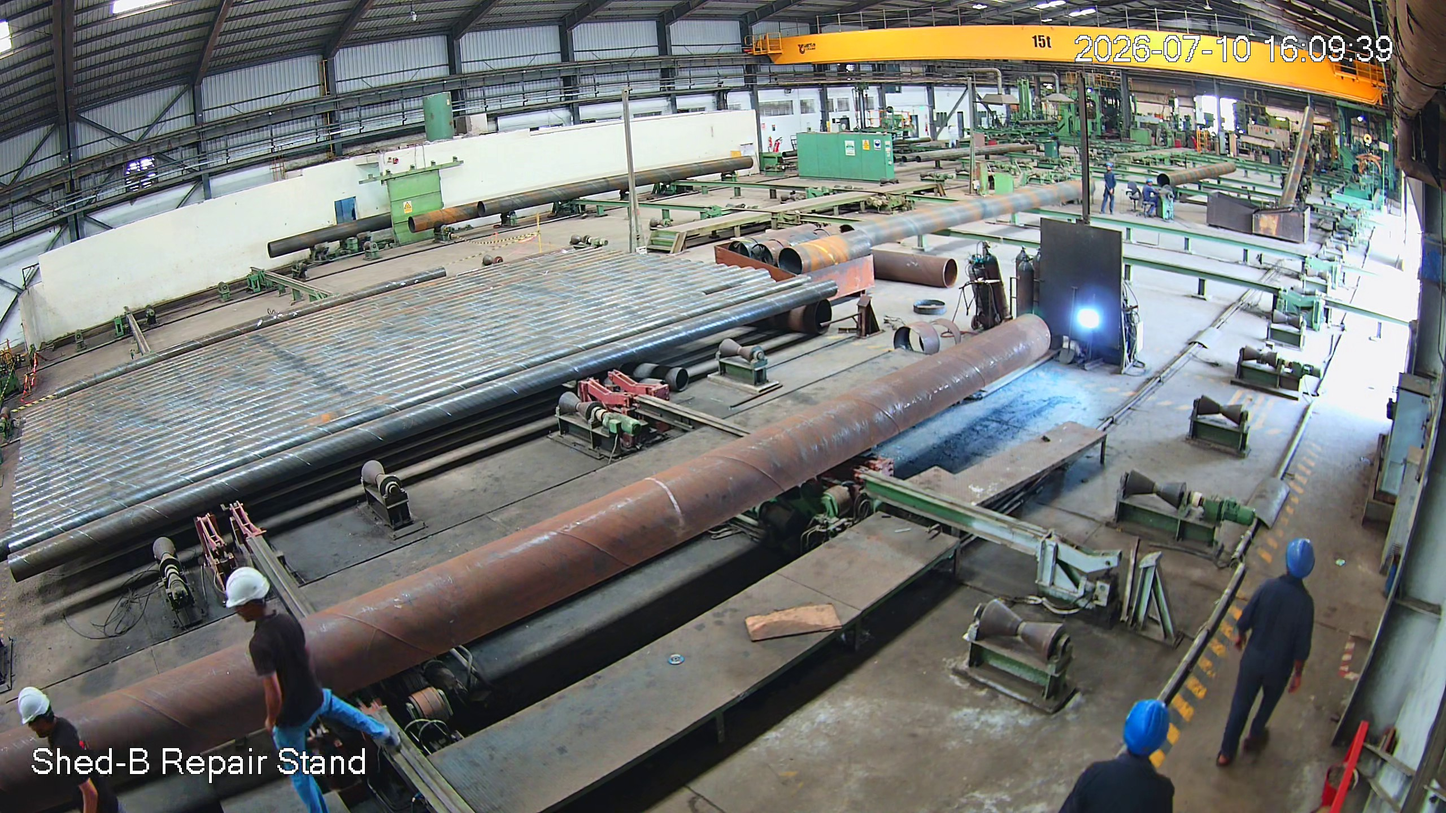Helmet: (1122, 689, 1197, 778), (219, 566, 296, 643), (10, 676, 69, 742), (1275, 528, 1325, 605)
Person: (226, 568, 369, 813), (1212, 535, 1345, 785), (1046, 700, 1195, 813), (17, 684, 135, 813)
